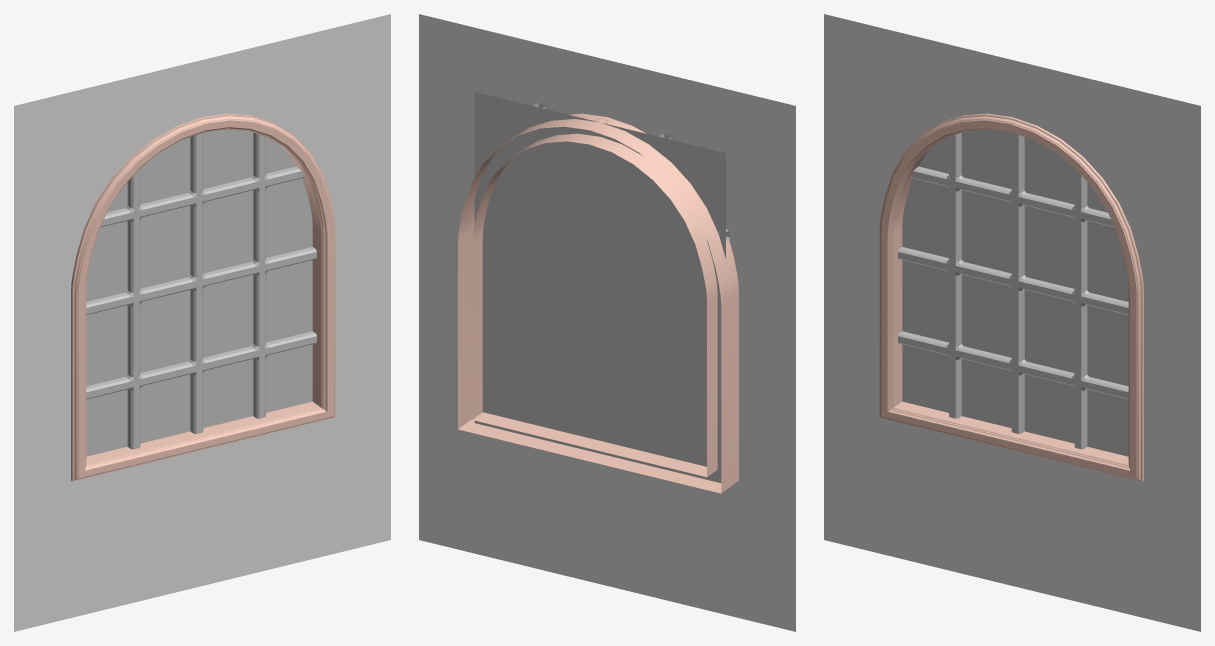
File: Shop_Wall_Window.fbx
3 views of the same model, side by side, from view 1: azimuth 30°, elevation 25°; view 2: azimuth 150°, elevation 25°; view 3: azimuth 330°, elevation 25° (orthographic).
Parts seen in each view (by area): view 1: Wall_Window, Wall_Window_Glass; view 2: Wall_Window, Wall_Window_Glass; view 3: Wall_Window, Wall_Window_Glass.
Boxes of the visible parts, x1,y1,x2,y2 form: Wall_Window: (14,14,390,631); Wall_Window_Glass: (86,129,312,456); Wall_Window: (419,14,795,631); Wall_Window_Glass: (474,92,725,482); Wall_Window: (824,14,1200,631); Wall_Window_Glass: (902,129,1128,456).
Size of the model in its own units: 300 by 400 by 29.45.
